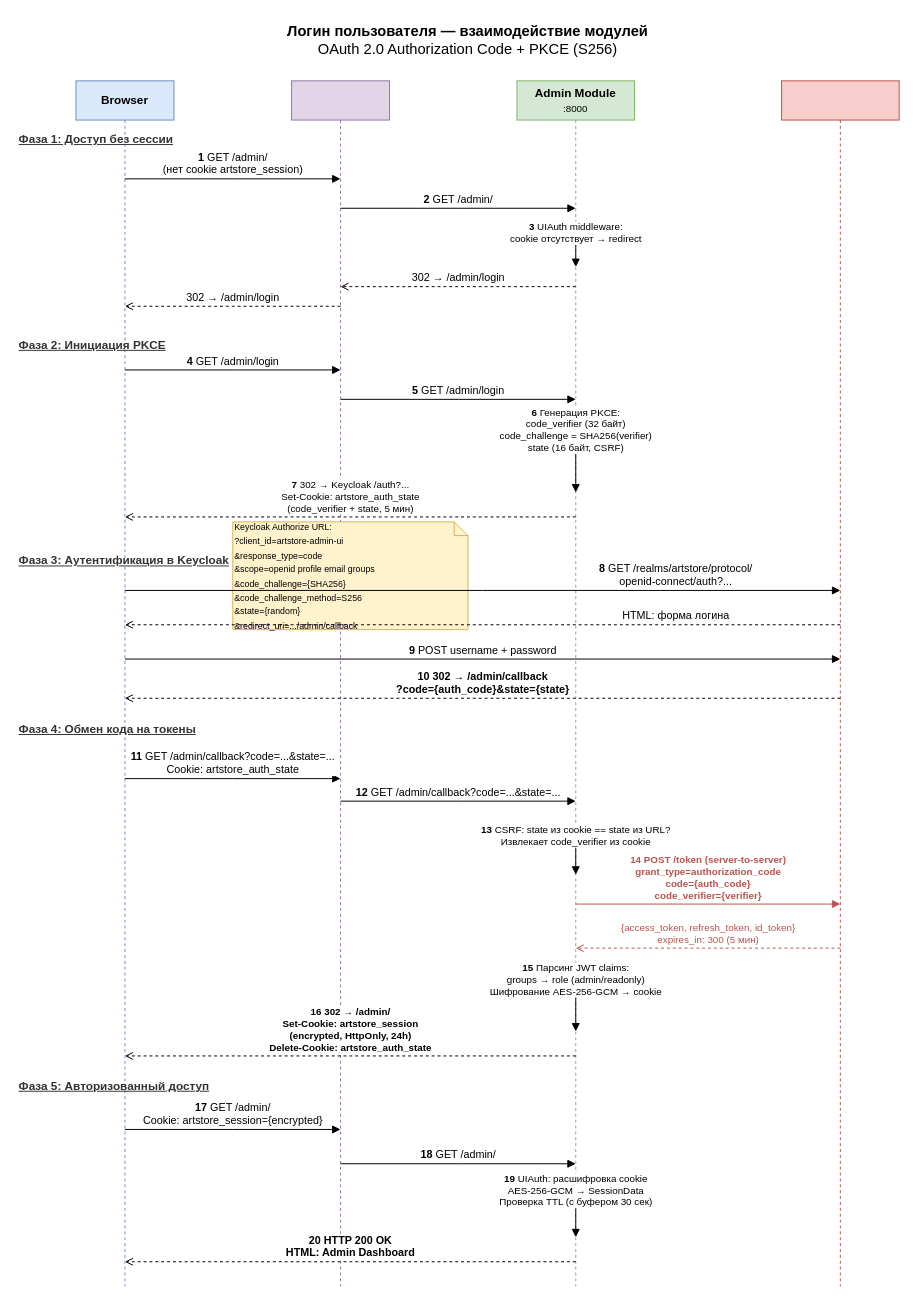
The diagram is 916 pixels wide and 1303 high, and some of its shapes have lost their labels. Each missing label, with the box of its shape:
API Gateway Envoy: (291, 80, 390, 1286)
Keycloak IdP (OIDC): (781, 80, 899, 1286)
